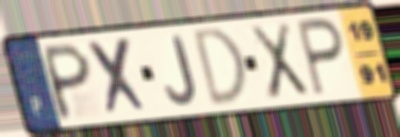D: (191, 24, 252, 110)
J: (163, 33, 199, 108)
P: (294, 15, 346, 99), (42, 40, 93, 123)
X: (85, 35, 153, 119), (246, 19, 312, 103)
